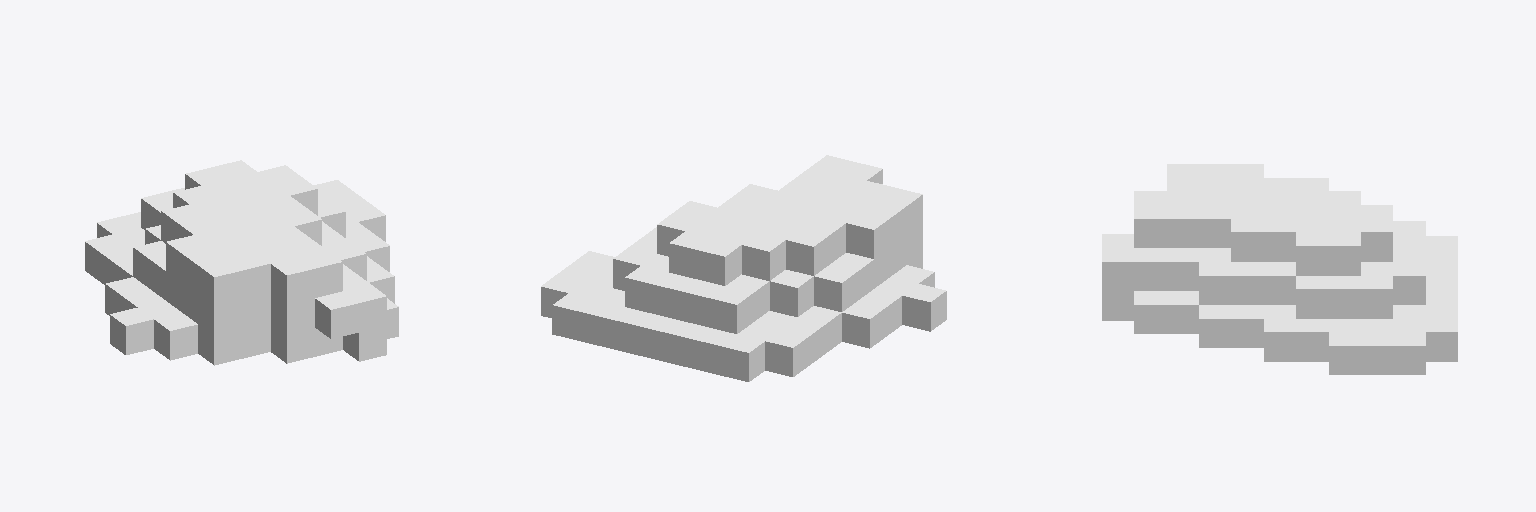
File: Leontortalizq2.obj
3 views of the same model, side by side, from view 1: azimuth 30°, elevation 25°; view 2: azimuth 150°, elevation 25°; view 3: azimuth 270°, elevation 25° (orthographic).
Parts seen in each view (by area): view 1: Leontaliz2; view 2: Leontaliz2; view 3: Leontaliz2.
Part boxes in pixels (x1,y1,x2,y2): Leontaliz2: (85,160,398,365); Leontaliz2: (541,155,946,381); Leontaliz2: (1102,164,1457,374).
Bounding box in the file's own units: 1.1 × 0.3 × 1.1.